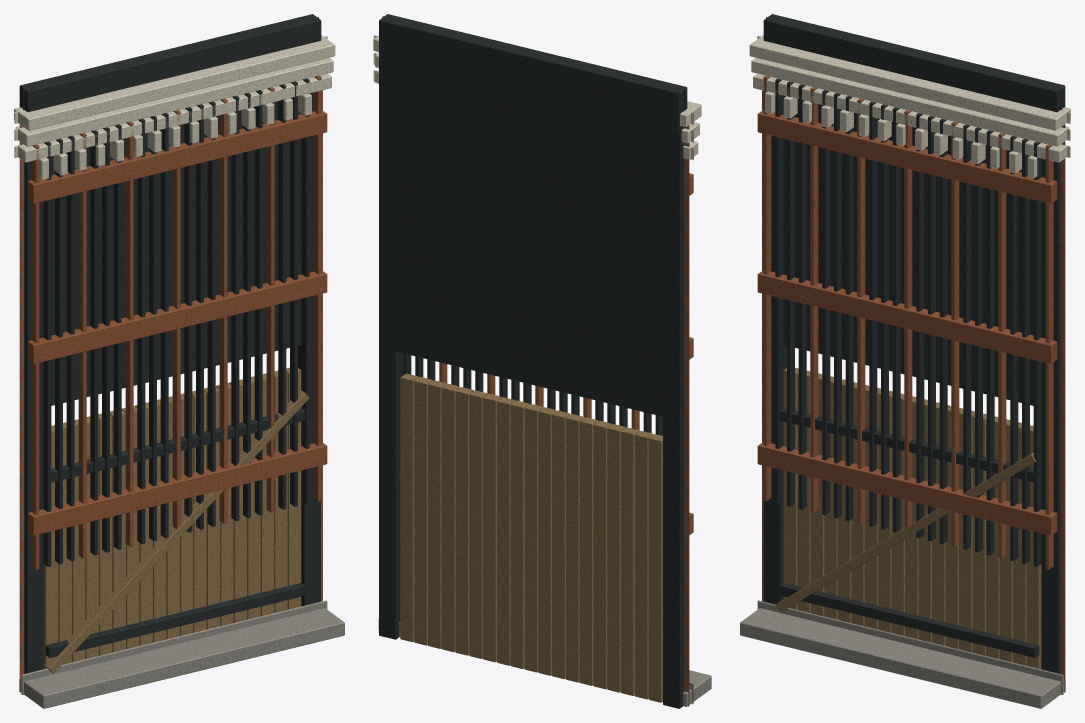
The model's file is WRHS5_lod1.glb.
The picture shows the model from 3 angles, left to right: view 1: azimuth 30°, elevation 25°; view 2: azimuth 150°, elevation 25°; view 3: azimuth 330°, elevation 25°; orthographic projection. The views are drawn at different scales.
Visible parts, largest first — view 1: WRHS5_FRONT_LOD1; view 2: WRHS5_FRONT_LOD1; view 3: WRHS5_FRONT_LOD1.
Boxes of the visible parts, left/top/right/bottom form: WRHS5_FRONT_LOD1: left=14, top=14, right=344, bottom=708; WRHS5_FRONT_LOD1: left=373, top=14, right=711, bottom=708; WRHS5_FRONT_LOD1: left=740, top=14, right=1070, bottom=708.
Size of the model in its own units: 3.84 by 7.05 by 0.6.
7 materials, 7 textured.
